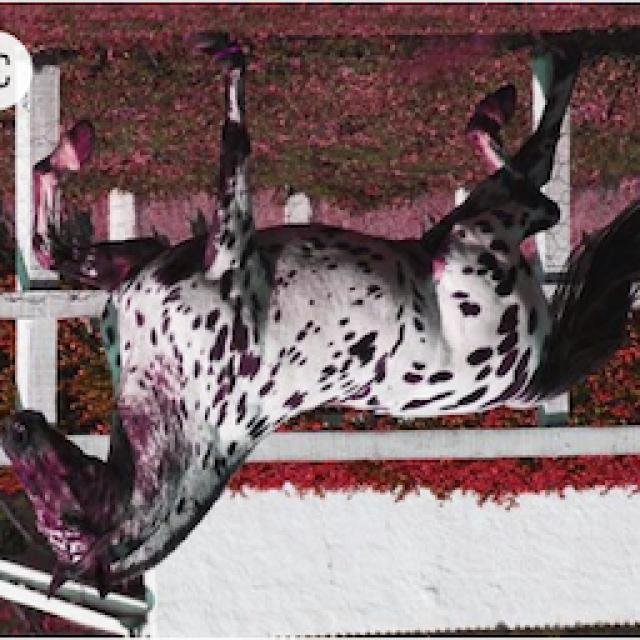Horse: (2, 27, 640, 605)
